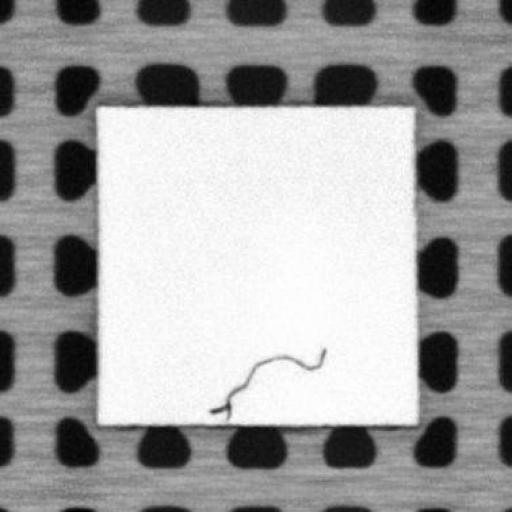DIE_INK: (207, 343, 329, 419)
